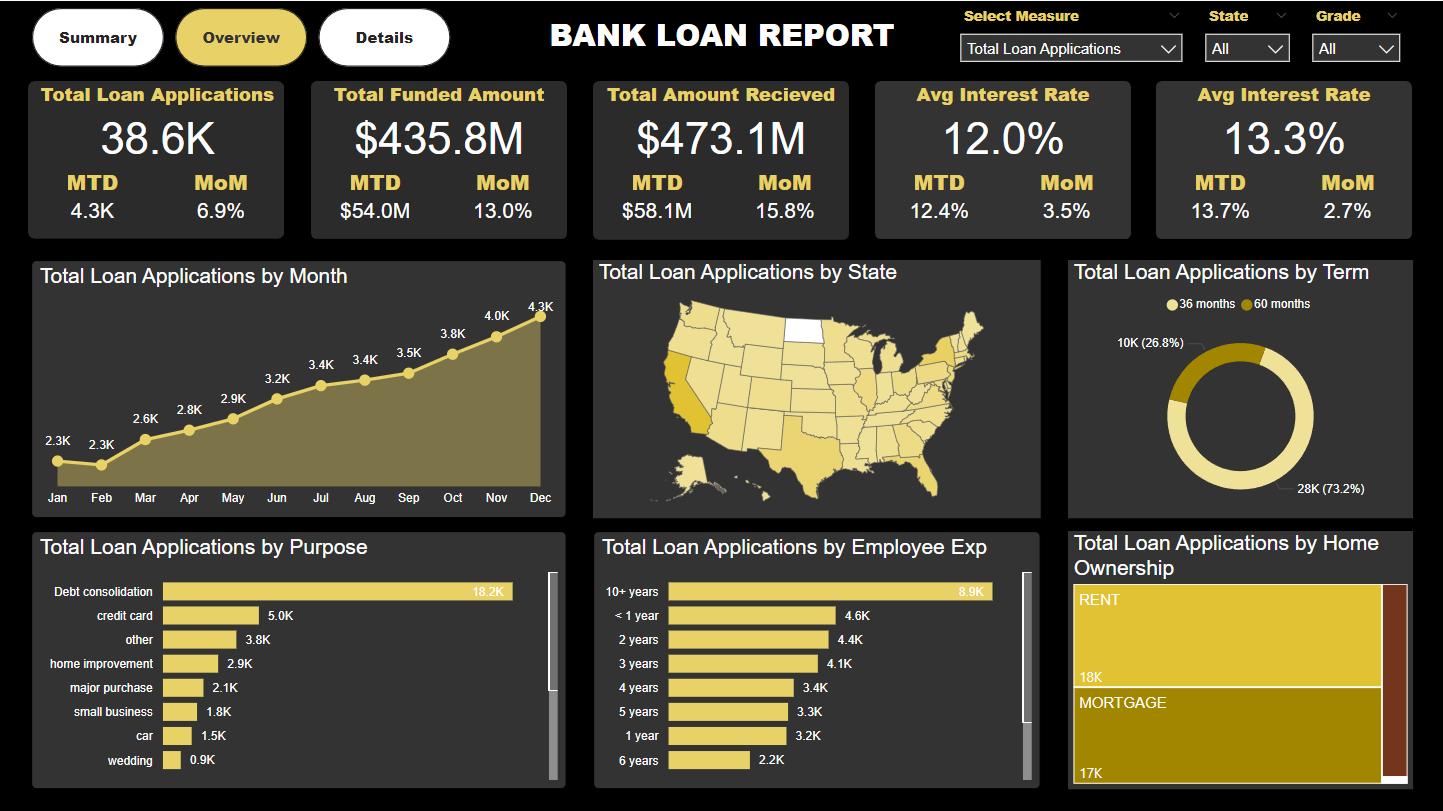

The dashboard page shown, as its layout file describes it:
{"tool":"powerbi","page":{"name":"Overview","canvas":[1280,720],"ordinal":1},"visuals":[{"type":"group","id":"g1","title":"Group 1","box":[25.2,71.1,227.6,140.3],"z":0},{"type":"shape","box":[275.9,71.1,227,140.3],"z":0,"group":"g2"},{"type":"shape","box":[525.8,71.1,227,140.9],"z":0,"group":"g3"},{"type":"shape","box":[775.6,71.1,227,140.3],"z":0,"group":"g4"},{"type":"shape","box":[1025.4,71.1,227,140.3],"z":0,"group":"g5"},{"type":"shape","box":[25.2,71.5,227.3,140],"z":0,"group":"g1"},{"type":"card","title":"Total Loan Applications","fields":{"Values":["bank_loan_data.Total Loan Applications"]},"box":[27.1,71.1,225.7,75.9],"z":1000,"group":"g1"},{"type":"group","id":"g2","title":"Group 1","box":[275.9,71.1,226.7,140.3],"z":1000},{"type":"card","title":"Total Funded Amount","fields":{"Values":["bank_loan_data.Total Funded Amount"]},"box":[275.9,71.1,227,74.9],"z":1000,"group":"g2"},{"type":"card","title":"Total Amount Recieved","fields":{"Values":["bank_loan_data.Total Amount Recieved"]},"box":[525.8,71.1,227,75.3],"z":1000,"group":"g3"},{"type":"card","title":"Avg Interest Rate","fields":{"Values":["bank_loan_data.Average Interest Rate"]},"box":[775.6,71.1,227,74.9],"z":1000,"group":"g4"},{"type":"card","title":"Avg Interest Rate","fields":{"Values":["bank_loan_data.Avg DTI"]},"box":[1025.4,71.1,227,74.9],"z":1000,"group":"g5"},{"type":"group","id":"g3","title":"Group 1","box":[525.8,71.1,226.7,140.3],"z":2000},{"type":"card","title":"MTD","fields":{"Values":["bank_loan_data.MTD Funded Amount"]},"box":[275.9,146,113.9,54.2],"z":2000,"group":"g2"},{"type":"card","title":"MTD","fields":{"Values":["bank_loan_data.MTD Avg Interest Rate"]},"box":[775.6,146,113.9,54.2],"z":2000,"group":"g4"},{"type":"card","title":"MTD","fields":{"Values":["bank_loan_data.MTD Average DTI"]},"box":[1025.4,146,113.9,54.2],"z":2000,"group":"g5"},{"type":"card","title":"MTD","fields":{"Values":["bank_loan_data.MTD Loan Applications"]},"box":[25.2,146.2,114.1,54.1],"z":2000,"group":"g1"},{"type":"card","title":"MTD","fields":{"Values":["bank_loan_data.MTD Amount Recieved"]},"box":[525.8,146.4,113.9,54.4],"z":2000,"group":"g3"},{"type":"group","id":"g4","title":"Group 1","box":[775.6,71.1,226.7,140.3],"z":3000},{"type":"card","title":"MoM","fields":{"Values":["bank_loan_data.MoM Funded Amount"]},"box":[389.8,146,113.1,54.2],"z":3000,"group":"g2"},{"type":"card","title":"MoM","fields":{"Values":["bank_loan_data.MoM Avg Interest Rate"]},"box":[889.5,146,113.1,54.2],"z":3000,"group":"g4"},{"type":"card","title":"MoM","fields":{"Values":["bank_loan_data.MoM Avgerage DTI"]},"box":[1139.3,146,113.1,54.2],"z":3000,"group":"g5"},{"type":"card","title":"MoM","fields":{"Values":["bank_loan_data.MoM Loan Application"]},"box":[139.3,146.2,113.3,54.1],"z":3000,"group":"g1"},{"type":"card","title":"MoM","fields":{"Values":["bank_loan_data.MoM Amount Recieved"]},"box":[639.7,146.4,113.1,54.4],"z":3000,"group":"g3"},{"type":"group","id":"g5","title":"Group 1","box":[1025.4,71.1,227,140.3],"z":4000},{"type":"shape","box":[0,0,1280,57.4],"z":5000},{"type":"slicer","fields":{"Values":["bank_loan_data.address_state"]},"box":[1058.7,0,94.9,57.6],"z":6000},{"type":"slicer","fields":{"Values":["bank_loan_data.grade"]},"box":[1153.6,0,98.4,57.6],"z":8000},{"type":"areaChart","fields":{"Y":["bank_loan_data.Total Loan Applications"],"Category":["Date Table.Month"]},"box":[27.5,229.7,475.3,228.8],"z":9000},{"type":"slicer","fields":{"Values":["Select Measure.Select Measure"]},"box":[841.5,0,217.2,57.6],"z":10000},{"type":"shapeMap","fields":{"Value":["bank_loan_data.Total Loan Applications"],"Category":["bank_loan_data.address_state"]},"box":[525.8,229.7,397.2,228.8],"z":11000},{"type":"donutChart","fields":{"Y":["bank_loan_data.Total Loan Applications"],"Category":["bank_loan_data.term"]},"box":[947,229.7,305.9,228.8],"z":12000},{"type":"barChart","fields":{"Y":["bank_loan_data.Total Loan Applications"],"Category":["bank_loan_data.emp_length"]},"box":[525.8,470,397.2,228.8],"z":13000},{"type":"barChart","fields":{"Y":["bank_loan_data.Total Loan Applications"],"Category":["bank_loan_data.purpose"]},"box":[27.5,470,475.3,228.8],"z":14000},{"type":"treemap","fields":{"Values":["bank_loan_data.Total Loan Applications"],"Group":["bank_loan_data.home_ownership"]},"box":[947,470,306,229],"z":15000},{"type":"pageNavigator","box":[28.4,6.2,371.5,52.3],"z":16000},{"type":"textbox","box":[469.1,6.2,342.3,52.3],"z":17000}]}

Visuals, with their boxes in screenshot pixels (x1, y1, x2, y2), scaled from the page's 1280x720 canvas onto the 1443x811 screenshot:
"Group 1" group: bbox=(28, 80, 285, 238)
shape: bbox=(311, 80, 567, 238)
shape: bbox=(593, 80, 849, 239)
shape: bbox=(874, 80, 1130, 238)
shape: bbox=(1156, 80, 1412, 238)
shape: bbox=(28, 81, 285, 238)
"Total Loan Applications" card: bbox=(31, 80, 285, 166)
"Group 1" group: bbox=(311, 80, 567, 238)
"Total Funded Amount" card: bbox=(311, 80, 567, 164)
"Total Amount Recieved" card: bbox=(593, 80, 849, 165)
"Avg Interest Rate" card: bbox=(874, 80, 1130, 164)
"Avg Interest Rate" card: bbox=(1156, 80, 1412, 164)
"Group 1" group: bbox=(593, 80, 848, 238)
"MTD" card: bbox=(311, 164, 439, 226)
"MTD" card: bbox=(874, 164, 1003, 226)
"MTD" card: bbox=(1156, 164, 1284, 226)
"MTD" card: bbox=(28, 165, 157, 226)
"MTD" card: bbox=(593, 165, 721, 226)
"Group 1" group: bbox=(874, 80, 1130, 238)
"MoM" card: bbox=(439, 164, 567, 226)
"MoM" card: bbox=(1003, 164, 1130, 226)
"MoM" card: bbox=(1284, 164, 1412, 226)
"MoM" card: bbox=(157, 165, 285, 226)
"MoM" card: bbox=(721, 165, 849, 226)
"Group 1" group: bbox=(1156, 80, 1412, 238)
shape: bbox=(0, 0, 1442, 65)
slicer - bank_loan_data.address_state: bbox=(1194, 0, 1301, 65)
slicer - bank_loan_data.grade: bbox=(1301, 0, 1411, 65)
areaChart - bank_loan_data.Total Loan Applications x Date Table.Month: bbox=(31, 259, 567, 516)
slicer - Select Measure.Select Measure: bbox=(949, 0, 1194, 65)
shapeMap - bank_loan_data.Total Loan Applications x bank_loan_data.address_state: bbox=(593, 259, 1041, 516)
donutChart - bank_loan_data.Total Loan Applications x bank_loan_data.term: bbox=(1068, 259, 1412, 516)
barChart - bank_loan_data.Total Loan Applications x bank_loan_data.emp_length: bbox=(593, 529, 1041, 787)
barChart - bank_loan_data.Total Loan Applications x bank_loan_data.purpose: bbox=(31, 529, 567, 787)
treemap - bank_loan_data.Total Loan Applications x bank_loan_data.home_ownership: bbox=(1068, 529, 1413, 787)
pageNavigator: bbox=(32, 7, 451, 66)
textbox: bbox=(529, 7, 915, 66)
